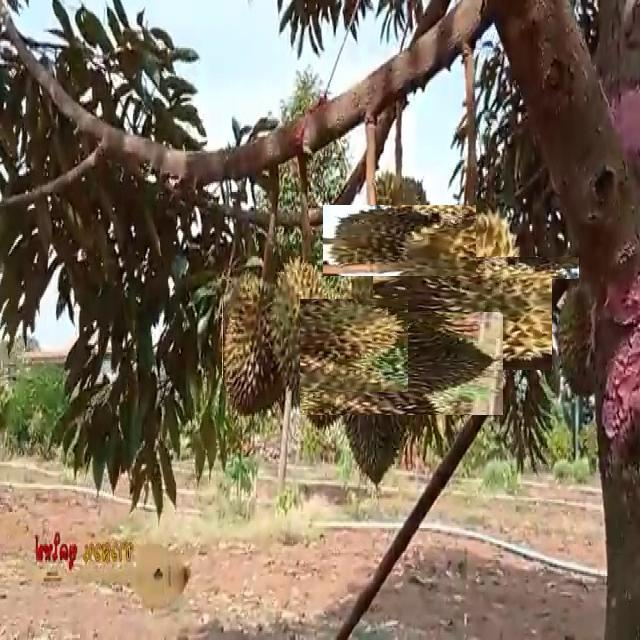durian: (283, 273, 464, 454), (396, 233, 556, 393), (245, 275, 385, 415), (223, 260, 300, 427), (343, 185, 456, 297), (552, 279, 609, 403)
